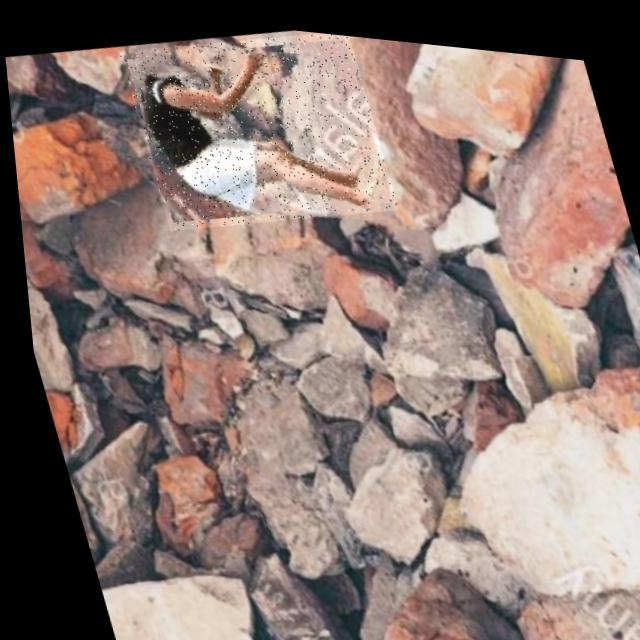Person in Rubble: (115, 9, 398, 245)
